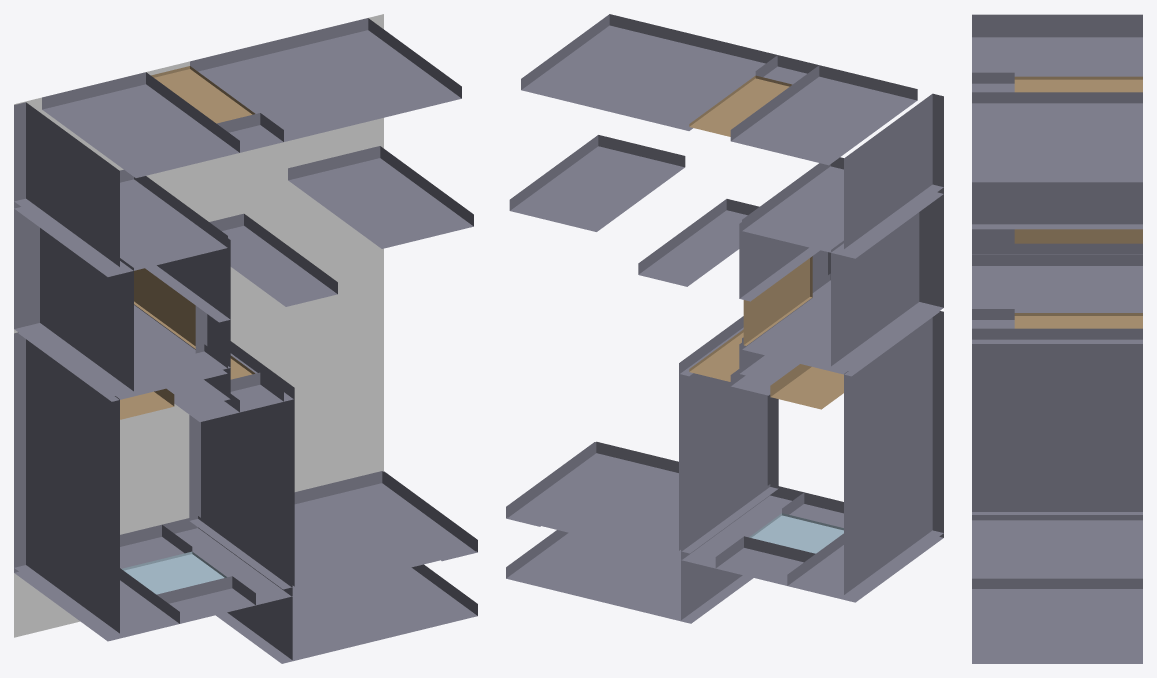
3 renders of one model, left to right at view 1: azimuth 30°, elevation 25°; view 2: azimuth 150°, elevation 25°; view 3: azimuth 270°, elevation 25°, orthographic. The views are drawn at different scales.
Parts seen in each view (by area): view 1: test, FloorPlan; view 2: test; view 3: test.
Part boxes in pixels (bbox=[...]): test: bbox=[14, 18, 477, 663]; FloorPlan: bbox=[14, 14, 383, 637]; test: bbox=[506, 14, 943, 623]; test: bbox=[972, 14, 1142, 663].
Size of the model in its own units: 6.38 by 8.79 by 2.8.
